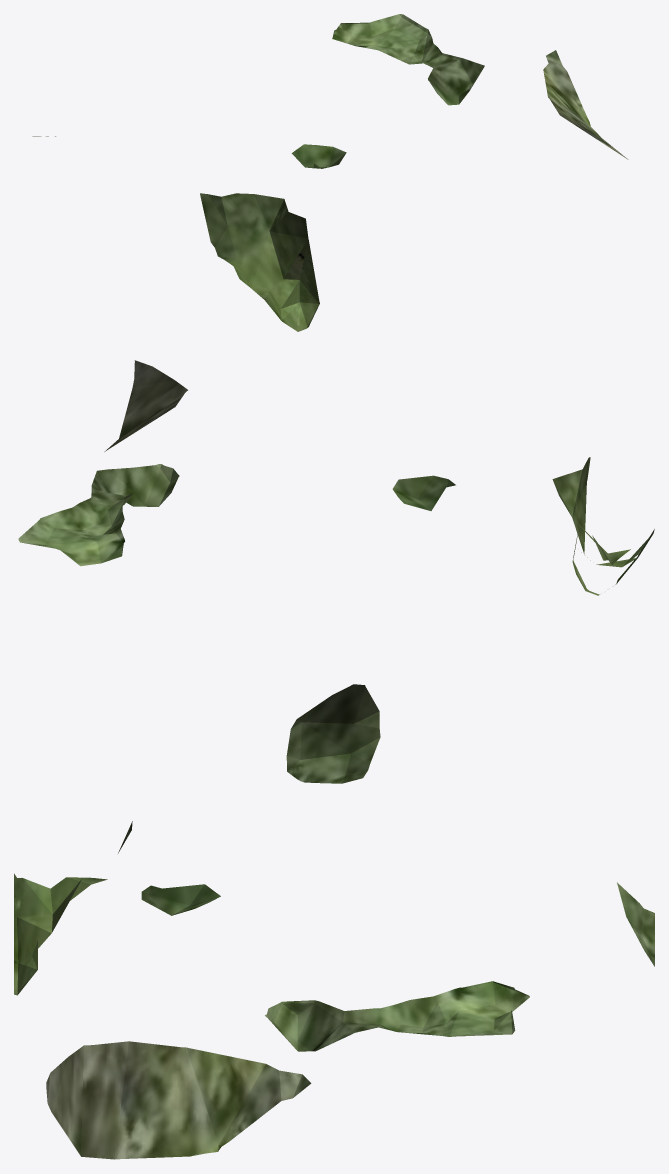
3 views of the same model, one above another, from view 1: azimuth 30°, elevation 25°; view 2: azimuth 150°, elevation 25°; view 3: azimuth 270°, elevation 25° (orthographic). The views are drawn at different scales.
Size of the model in its own units: 2.95 by 0.7545 by 2.95.
1 material, 1 textured.
